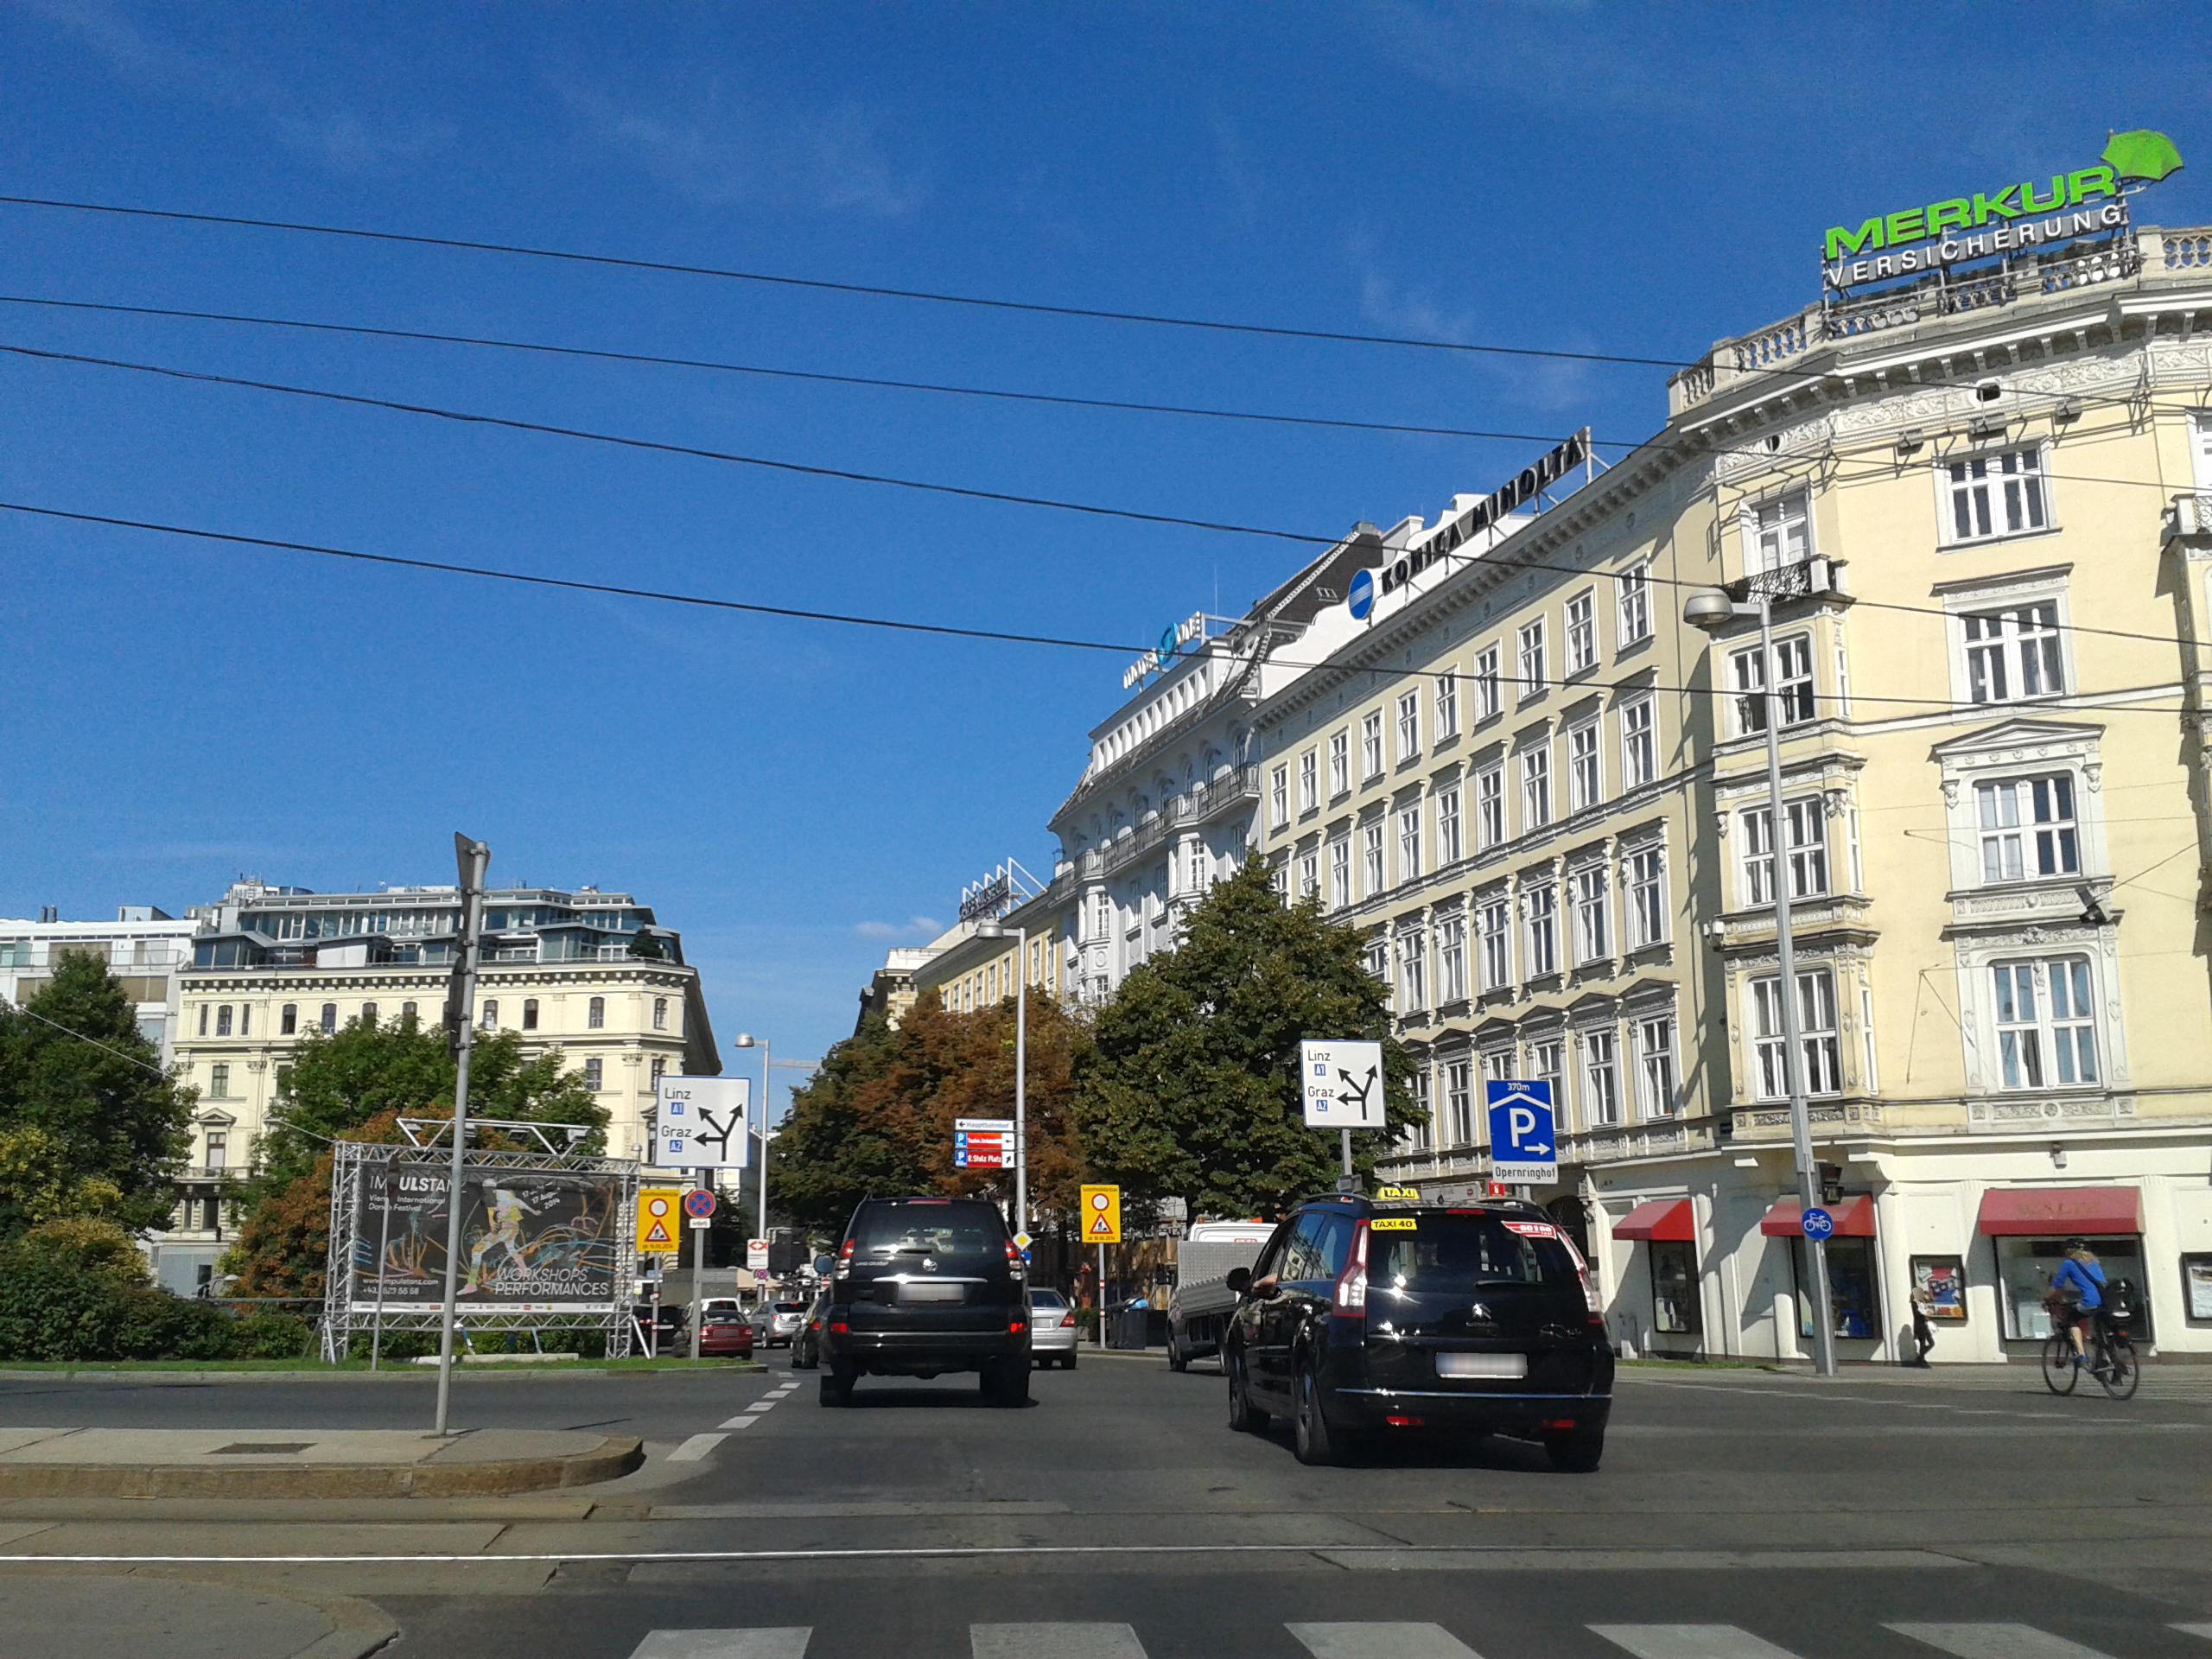vinyl banner: (350, 1145, 620, 1328)
